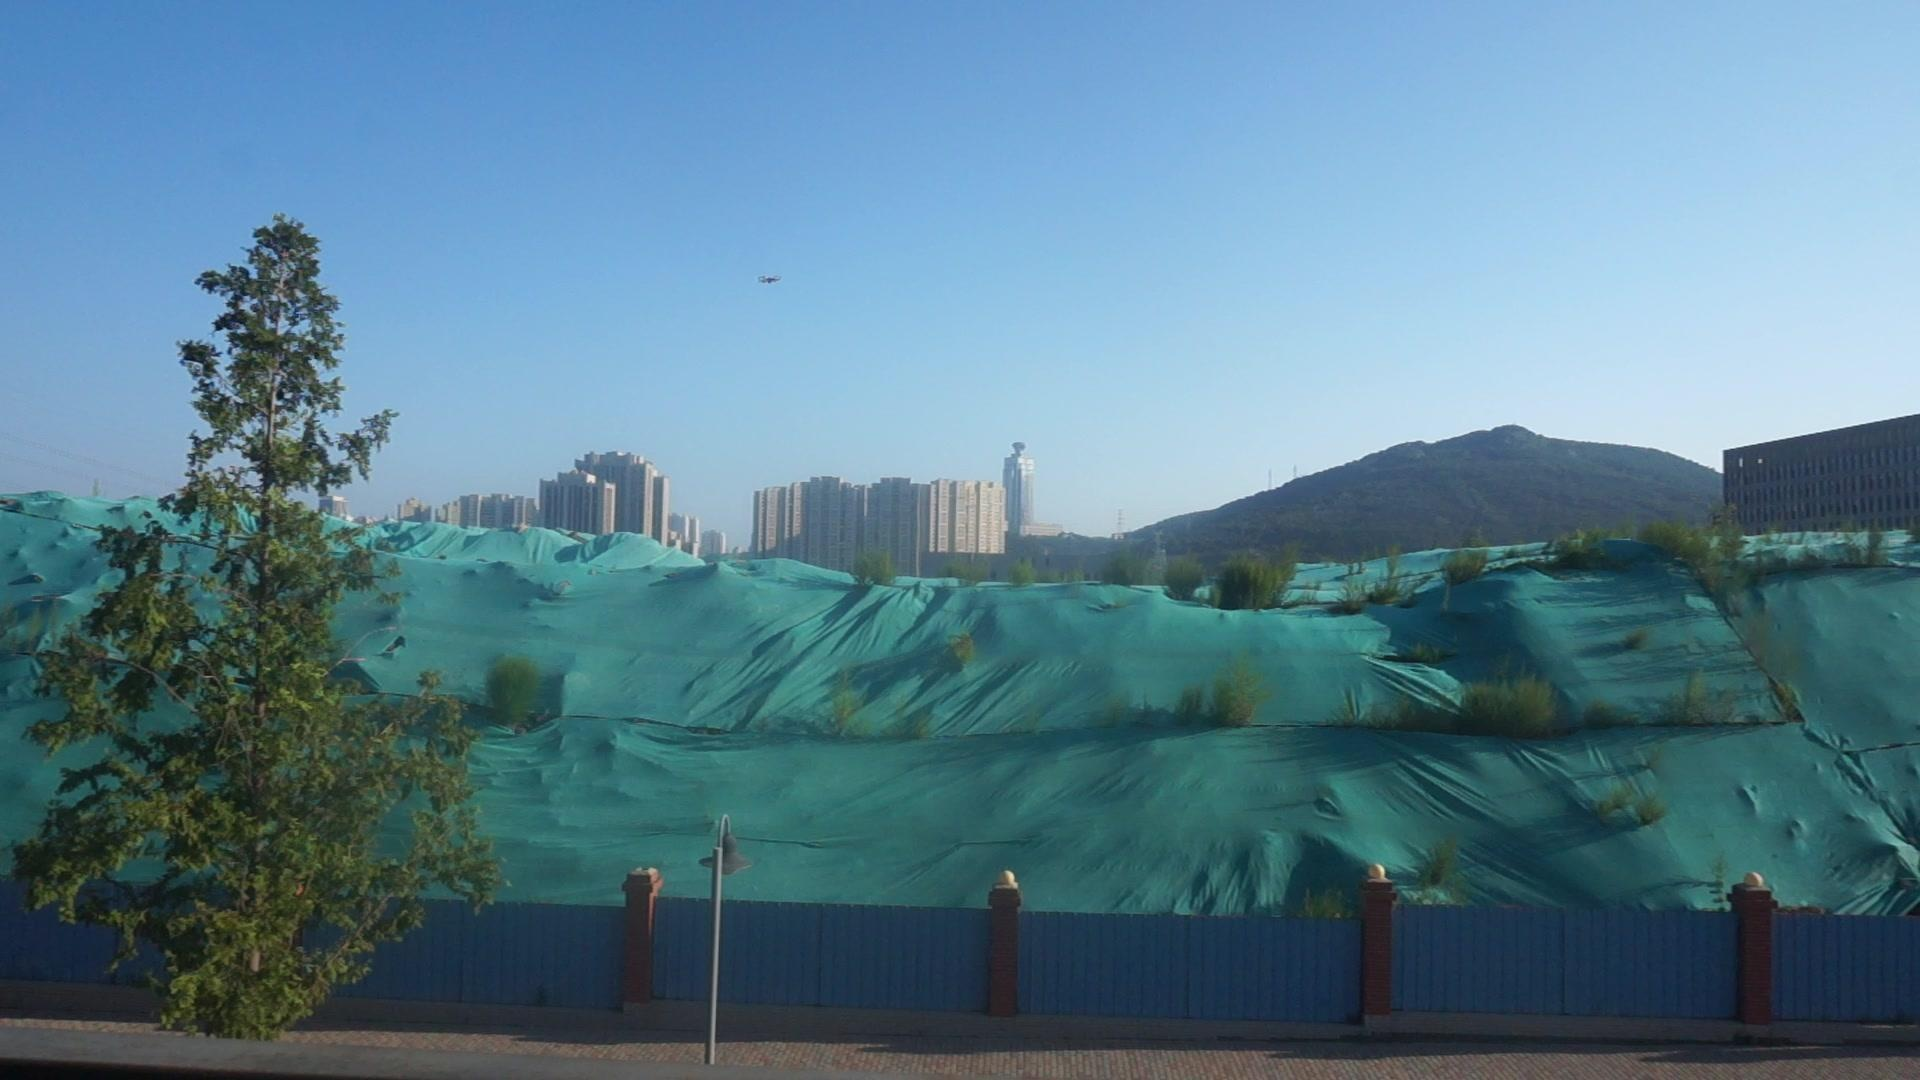UAV: (758, 276, 785, 286)
